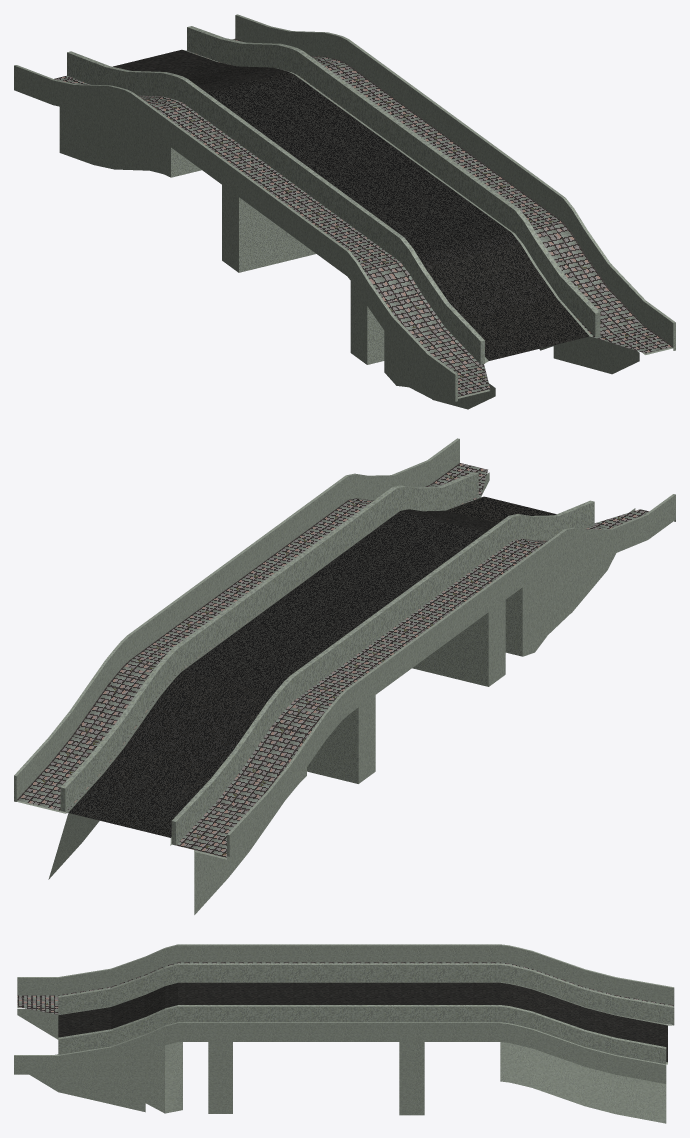
Rendered from BGN_BRIDGE 3.fbx.
3 renders of one model, top to bottom at view 1: azimuth 30°, elevation 25°; view 2: azimuth 150°, elevation 25°; view 3: azimuth 270°, elevation 25°, orthographic. The views are drawn at different scales.
Visible parts, largest first — view 1: BGN_BRIDGE_3; view 2: BGN_BRIDGE_3; view 3: BGN_BRIDGE_3.
Boxes of the visible parts, left/top/right/bottom form: BGN_BRIDGE_3: left=14, top=14, right=675, bottom=409; BGN_BRIDGE_3: left=14, top=438, right=675, bottom=914; BGN_BRIDGE_3: left=14, top=944, right=674, bottom=1123.
Bounding box in the file's own units: 2111 × 1401 × 7446.
